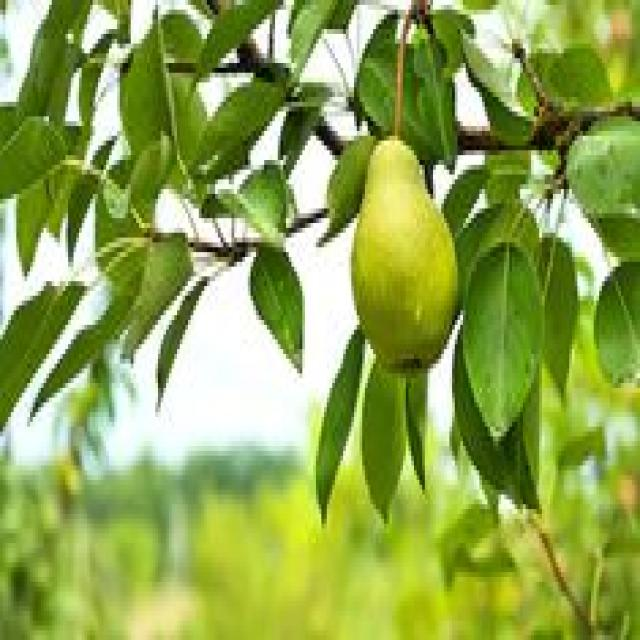pear: (354, 136, 458, 368)
